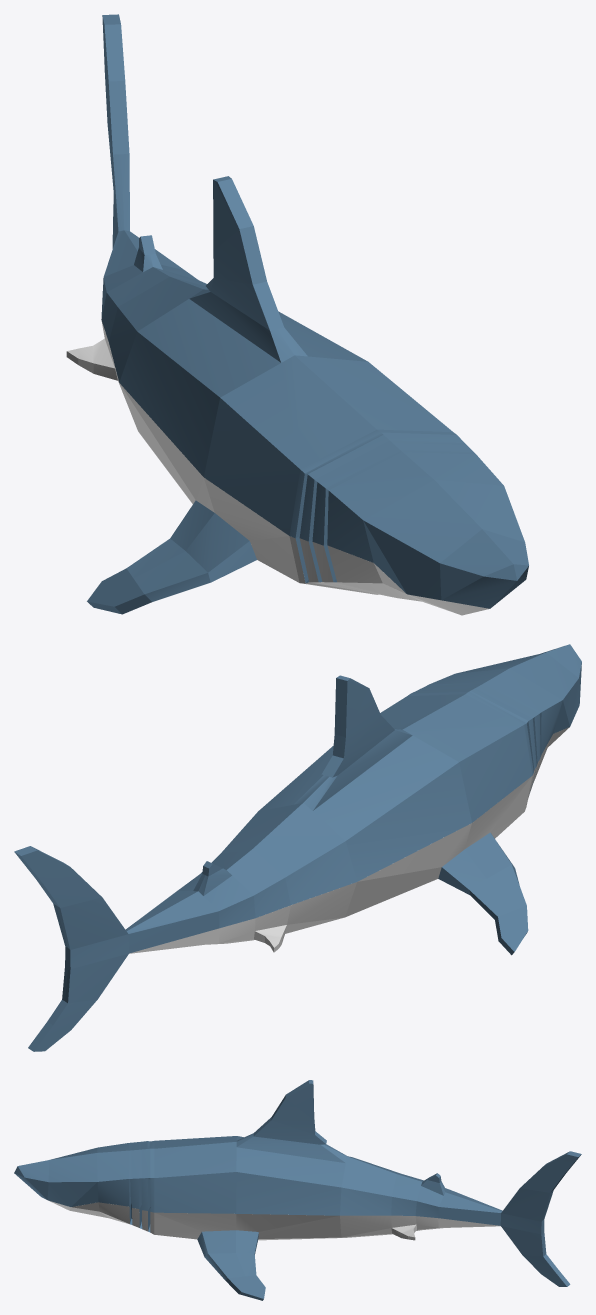
The model's file is nage-shark.glb.
The picture shows the model from 3 angles, top to bottom: view 1: azimuth 30°, elevation 25°; view 2: azimuth 150°, elevation 25°; view 3: azimuth 270°, elevation 25°; orthographic projection. The views are drawn at different scales.
Parts seen in each view (by area): view 1: Cylinder, Cylinder_1; view 2: Cylinder, Cylinder_1; view 3: Cylinder, Cylinder_1.
Part boxes in pixels (box(x1,y1,x2,y2)): Cylinder: box(87, 14, 528, 614); Cylinder_1: box(66, 321, 489, 615); Cylinder: box(14, 644, 581, 1051); Cylinder_1: box(129, 727, 569, 953); Cylinder: box(14, 1080, 581, 1300); Cylinder_1: box(48, 1200, 500, 1240).
Bounding box in the file's own units: 1.43 × 1.34 × 3.91.
